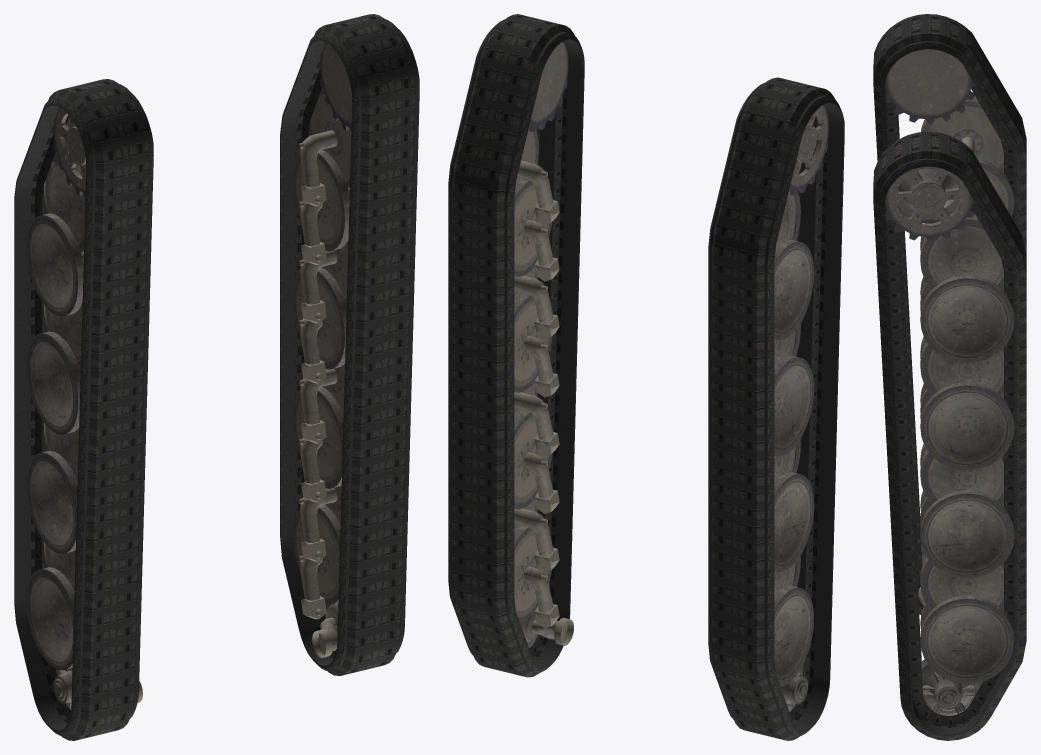
Rendered from Chassis.glb.
The picture shows the model from 3 angles, left to right: view 1: azimuth 30°, elevation 25°; view 2: azimuth 150°, elevation 25°; view 3: azimuth 270°, elevation 25°; orthographic projection. The views are drawn at different scales.
Visible parts, largest first — view 1: set_1_group_0, set_0_group_0, set_3_group_0, set_2_group_0; view 2: set_1_group_0, set_0_group_0, set_3_group_0, set_2_group_0; view 3: set_3_group_0, set_0_group_0, set_1_group_0, set_2_group_0.
Part boxes in pixels (<box>): set_1_group_0: <box>14,79,153,740</box>; set_0_group_0: <box>280,14,419,675</box>; set_3_group_0: <box>293,42,352,657</box>; set_2_group_0: <box>26,107,142,710</box>; set_1_group_0: <box>708,77,844,740</box>; set_0_group_0: <box>448,14,584,677</box>; set_3_group_0: <box>514,42,573,647</box>; set_2_group_0: <box>774,105,828,712</box>; set_3_group_0: <box>885,167,1014,715</box>; set_0_group_0: <box>873,131,1026,740</box>; set_1_group_0: <box>873,14,1026,614</box>; set_2_group_0: <box>885,49,1014,604</box>.
Size of the model in its own units: 3.3 by 6.19 by 1.46.
Materials: 4 (4 with a texture image).
